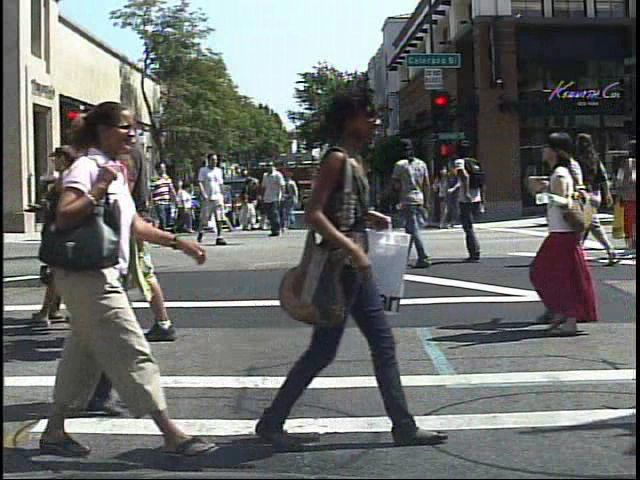person: (248, 76, 448, 458), (24, 87, 199, 472), (81, 122, 183, 355), (89, 98, 159, 351), (532, 123, 609, 348), (390, 131, 440, 276), (446, 138, 500, 271), (565, 128, 596, 343), (577, 131, 620, 268), (196, 151, 226, 249), (148, 158, 181, 237), (132, 160, 162, 244), (74, 163, 104, 247), (399, 162, 427, 234), (58, 182, 84, 245), (83, 183, 103, 225)
